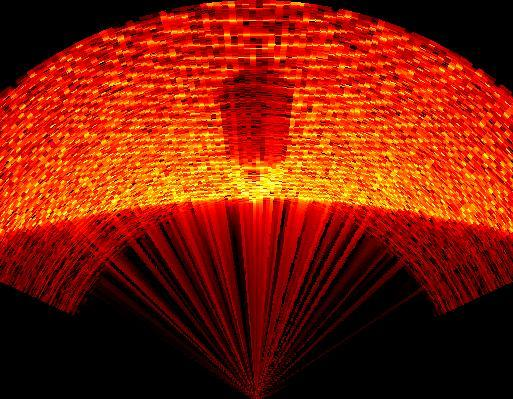box_crate: (219, 56, 298, 202)
